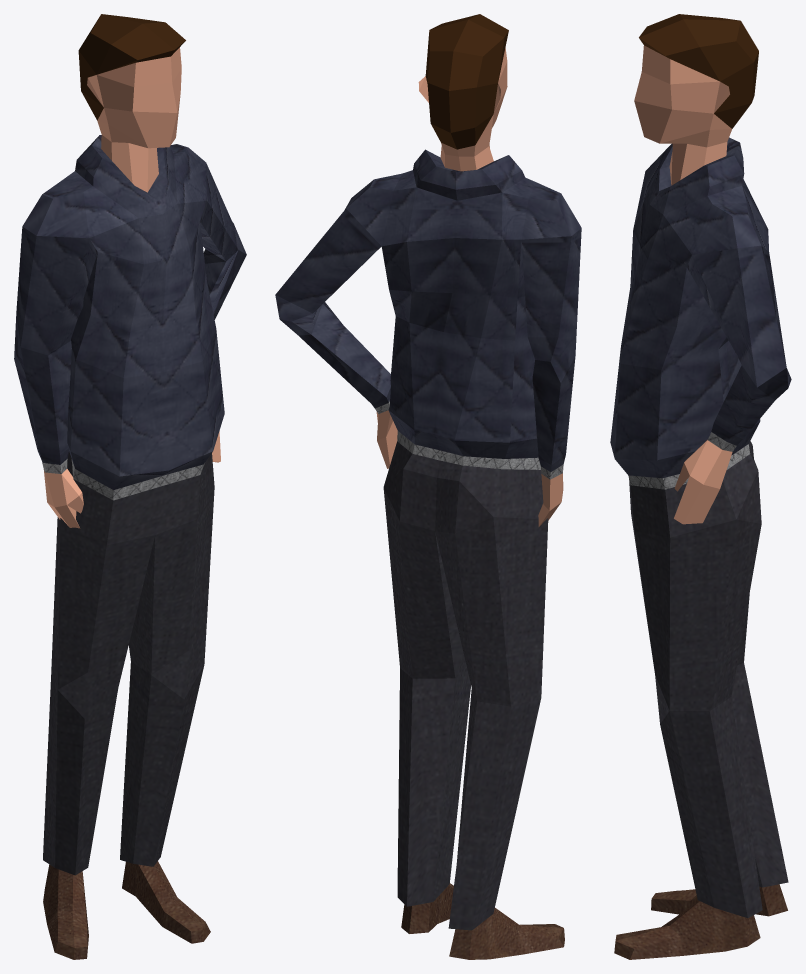
File: AutumnManA.010.glb
3 views of the same model, side by side, from view 1: azimuth 30°, elevation 25°; view 2: azimuth 150°, elevation 25°; view 3: azimuth 270°, elevation 25° (orthographic). The views are drawn at different scales.
Parts seen in each view (by area): view 1: AutumnManA.010; view 2: AutumnManA.010; view 3: AutumnManA.010.
Part boxes in pixels (left/top/right/bottom): AutumnManA.010: left=14, top=14, right=246, bottom=959; AutumnManA.010: left=275, top=14, right=581, bottom=959; AutumnManA.010: left=610, top=14, right=791, bottom=959.
Size of the model in its own units: 0.5242 by 1.77 by 0.3143.
Materials: 1 (1 with a texture image).
